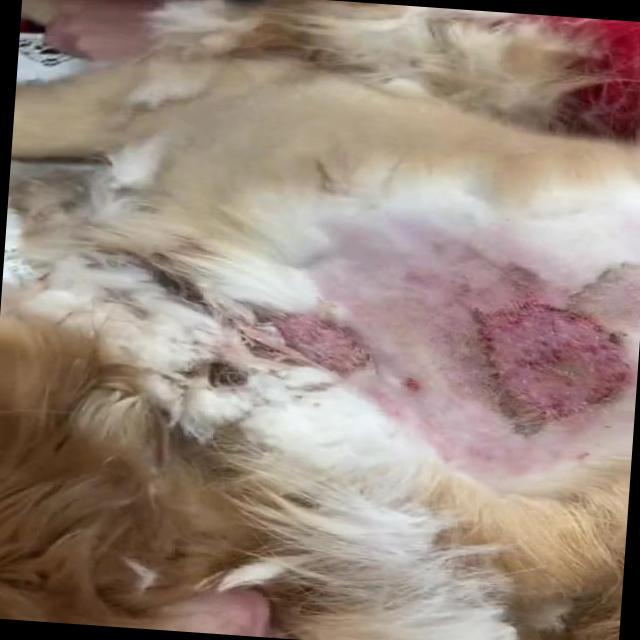allergic dermatitis: (473, 304, 638, 435), (235, 304, 379, 398)
